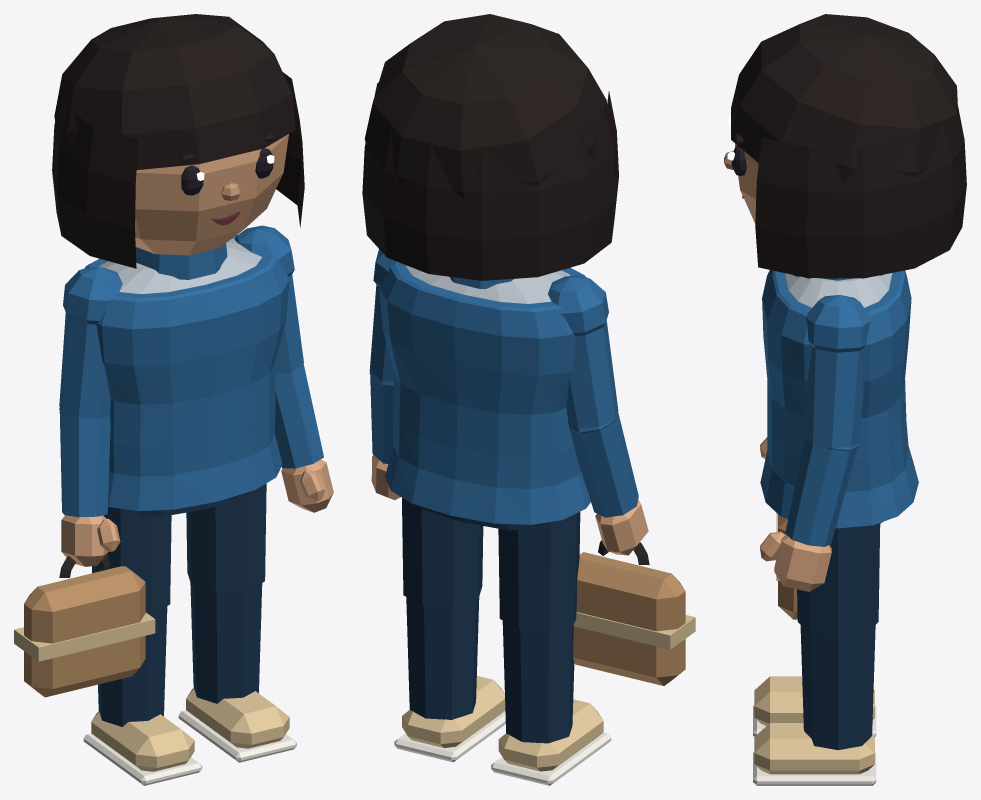
The model's file is rin-k1.glb.
The picture shows the model from 3 angles, left to right: view 1: azimuth 30°, elevation 25°; view 2: azimuth 150°, elevation 25°; view 3: azimuth 270°, elevation 25°; orthographic projection.
Parts seen in each view (by area): view 1: haare, jacke, bein_l, gegenstand_case, arm_r, kopf, bein_r, arm_l, schuh_r, schuh_l, torso, hand_r (+4 smaller); view 2: haare, jacke, bein_r, bein_l, gegenstand_case, arm_r, schuh_r, schuh_l, arm_l, torso, hand_r, hand_l; view 3: haare, jacke, bein_l, arm_l, schuh_l, hand_l, schuh_r, torso, kopf, gegenstand_case, gesicht.
Part boxes in pixels (x1,y1,x2,y2): haare: (52, 14, 304, 268); jacke: (85, 234, 289, 510); bein_l: (186, 483, 266, 703); gegenstand_case: (14, 554, 155, 697); arm_r: (59, 267, 122, 516); kopf: (135, 134, 288, 255); bein_r: (92, 507, 171, 726); arm_l: (234, 225, 323, 468); schuh_r: (83, 711, 202, 785); schuh_l: (178, 688, 296, 762); torso: (100, 238, 261, 293); hand_r: (61, 515, 120, 566); haare: (362, 14, 618, 280); jacke: (379, 265, 590, 524); bein_r: (498, 512, 580, 743); bein_l: (402, 497, 483, 719); gegenstand_case: (573, 540, 695, 685); arm_r: (548, 275, 638, 517); schuh_r: (491, 699, 611, 785); schuh_l: (394, 676, 505, 762); arm_l: (369, 249, 406, 463); torso: (406, 265, 570, 303); hand_r: (595, 499, 648, 555); hand_l: (371, 455, 400, 500); haare: (731, 14, 966, 278); jacke: (760, 270, 918, 528); bein_l: (797, 524, 880, 749); arm_l: (785, 295, 870, 546); schuh_l: (753, 723, 876, 785); hand_l: (760, 531, 831, 591); schuh_r: (753, 676, 876, 736); torso: (785, 273, 892, 307); kopf: (735, 143, 758, 223); gegenstand_case: (776, 513, 797, 619); gesicht: (724, 117, 746, 198).
Size of the model in its own units: 0.0111 by 0.0251 by 0.00771.
